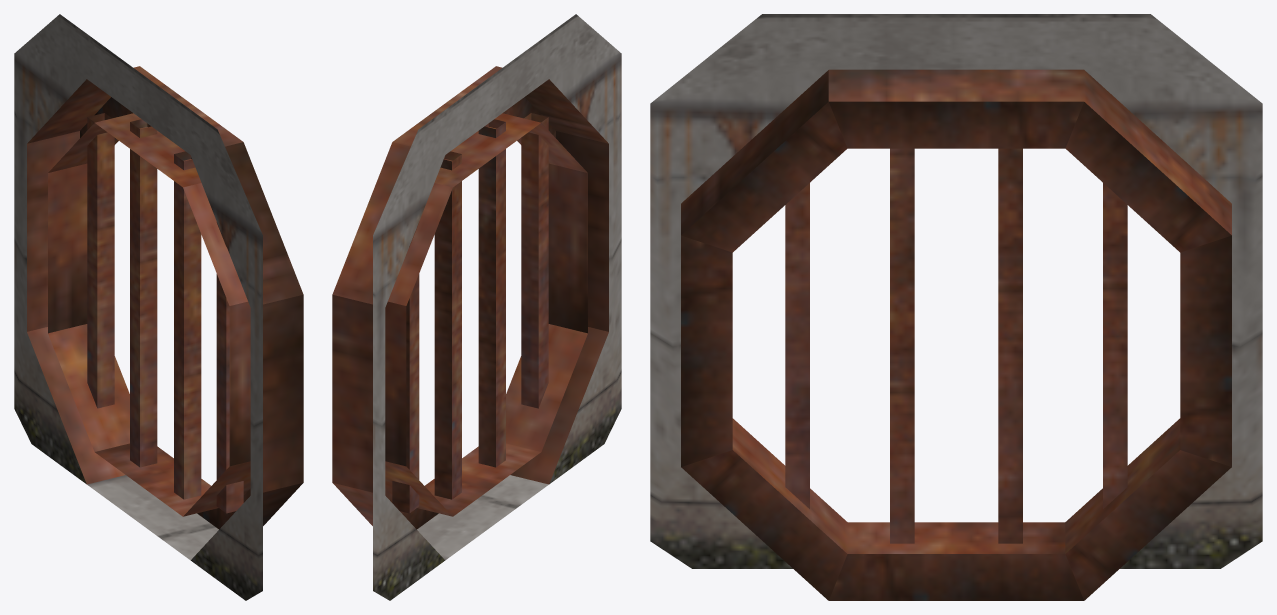
File: MESH_ESGOTO_WALL_PIPE.fbx
3 views of the same model, side by side, from view 1: azimuth 30°, elevation 25°; view 2: azimuth 150°, elevation 25°; view 3: azimuth 270°, elevation 25° (orthographic). The views are drawn at different scales.
Visible parts, largest first — view 1: MESH_ESGOTO_WALL_PIPE; view 2: MESH_ESGOTO_WALL_PIPE; view 3: MESH_ESGOTO_WALL_PIPE.
Part boxes in pixels (left/top/right/bottom): MESH_ESGOTO_WALL_PIPE: left=14, top=14, right=303, bottom=600; MESH_ESGOTO_WALL_PIPE: left=332, top=14, right=621, bottom=600; MESH_ESGOTO_WALL_PIPE: left=650, top=14, right=1262, bottom=600.
Bounding box in the file's own units: 0.4924 × 4 × 4.
